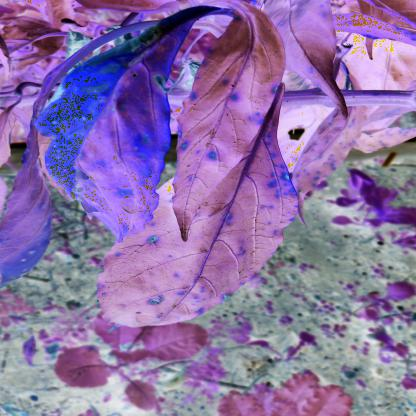bell pepper leaf spot: (30, 19, 192, 252), (97, 162, 301, 331), (168, 8, 285, 247), (293, 75, 368, 211)
